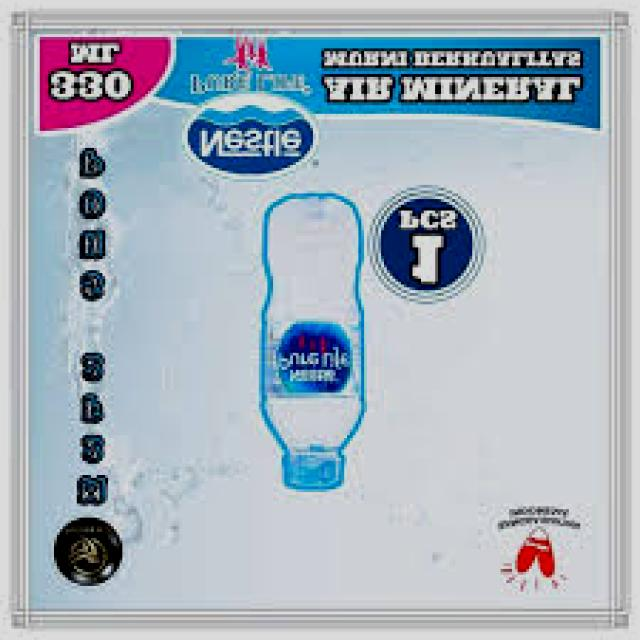bottle: (242, 183, 380, 490)
